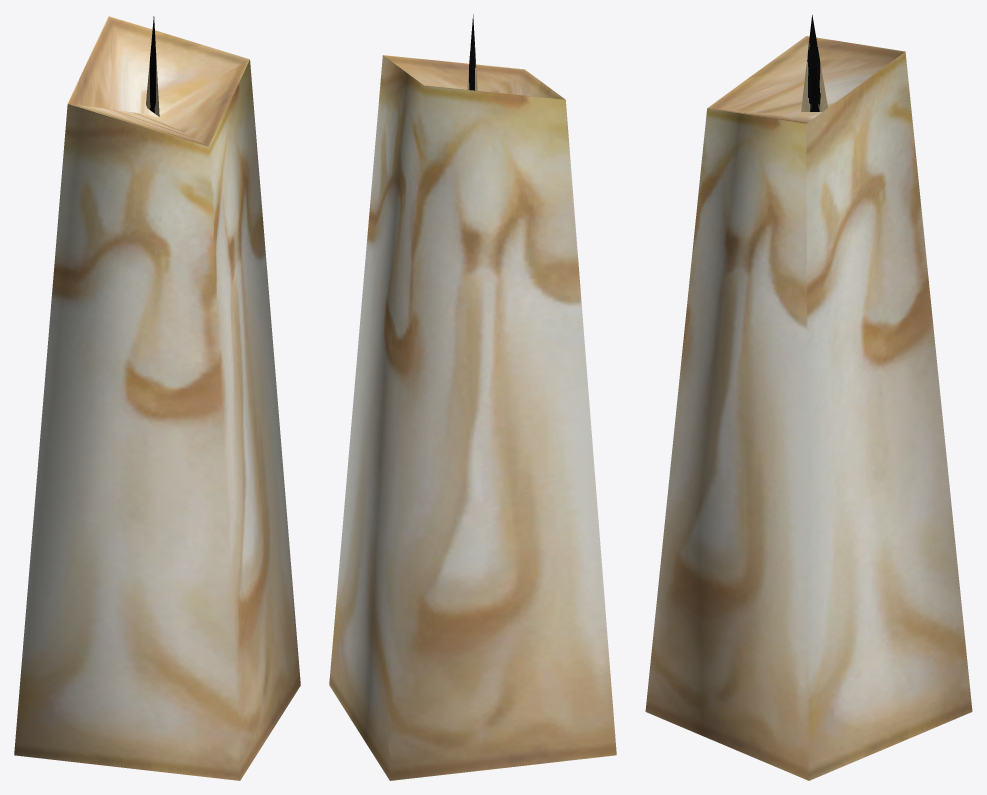
The model's file is candle01.obj.
The picture shows the model from 3 angles, left to right: view 1: azimuth 30°, elevation 25°; view 2: azimuth 150°, elevation 25°; view 3: azimuth 270°, elevation 25°; orthographic projection.
Visible parts, largest first — view 1: Geoset0, Geoset1; view 2: Geoset0; view 3: Geoset0, Geoset1.
Part boxes in pixels (x1=…): Geoset0: x1=14, y1=16, x2=300, y2=780; Geoset1: x1=146, y1=16, x2=159, y2=116; Geoset0: x1=329, y1=55, x2=616, y2=780; Geoset0: x1=645, y1=36, x2=972, y2=780; Geoset1: x1=801, y1=15, x2=827, y2=111.
Size of the model in its own units: 0.2399 by 0.5641 by 0.2399.
Materials: 2 (2 with a texture image).
